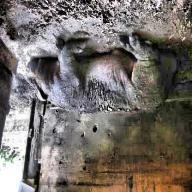boar: (26, 35, 173, 116)
